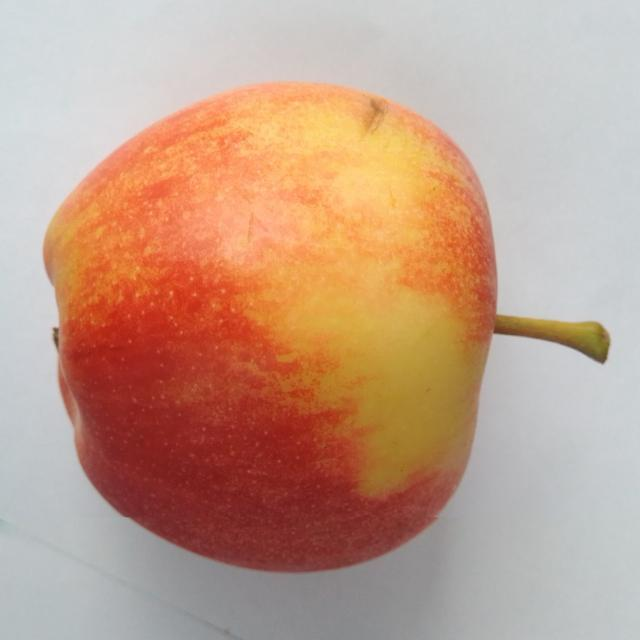Fresh Apple: (40, 71, 503, 576)
